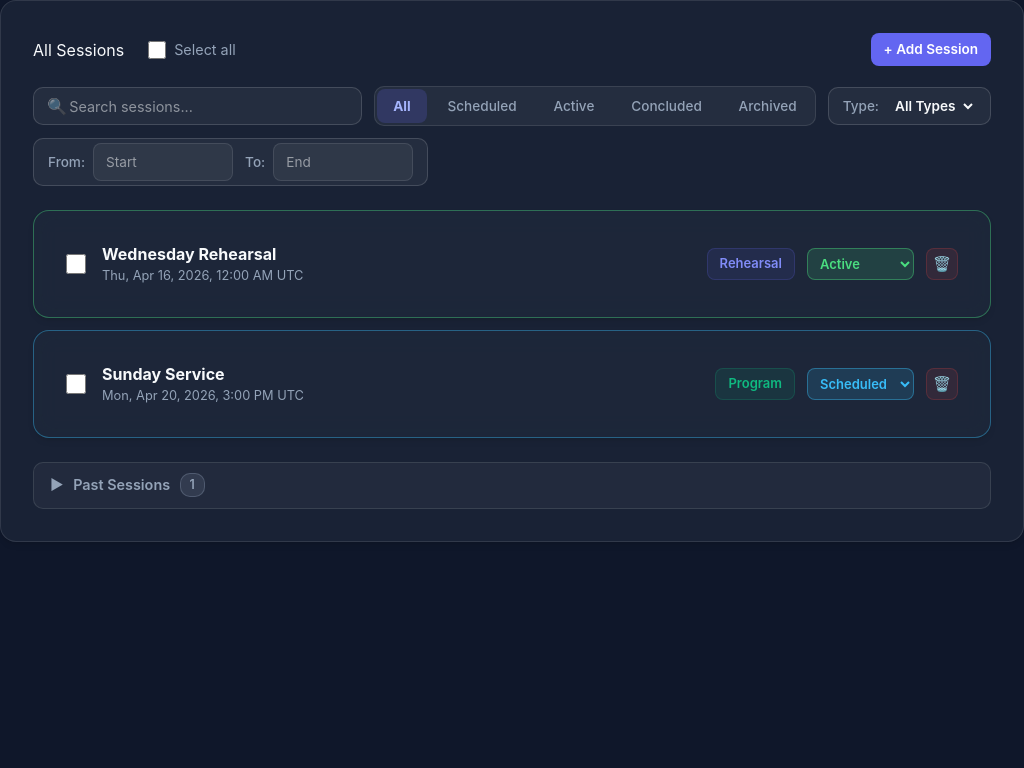
Test case: Sessions Page Tests › opens view modal when a session row is clicked
Click the text "Sunday Service" at (163, 374), box x1=102 y1=364 x2=225 y2=384
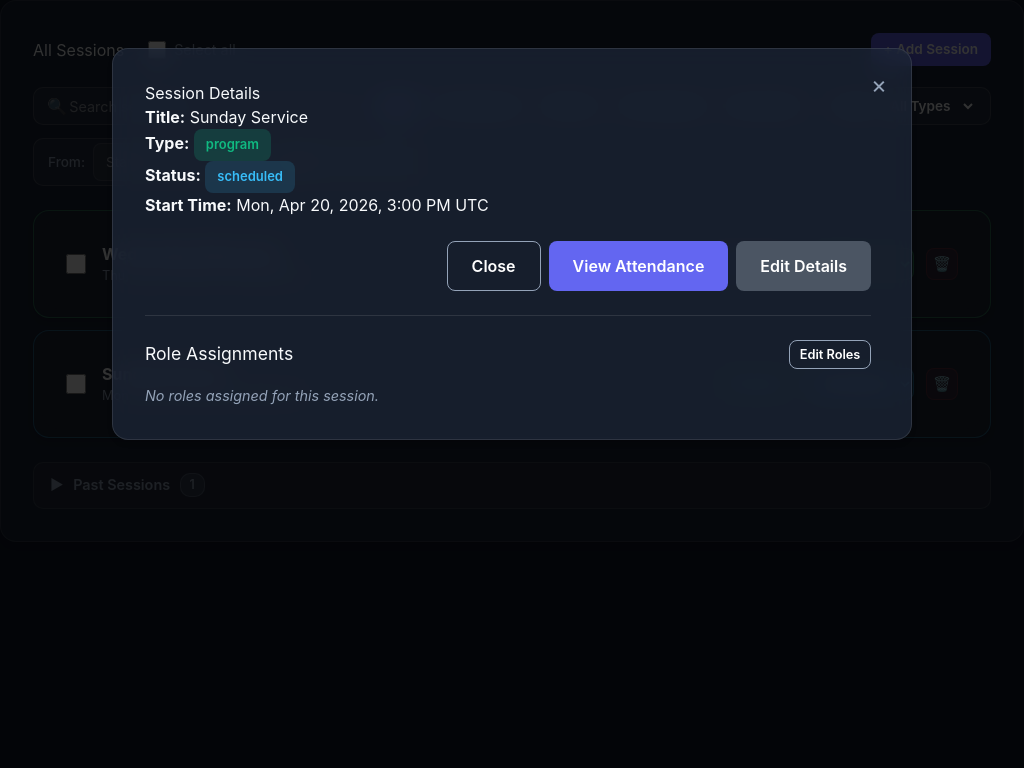
Now the heading "Session Details" is shown, box x1=145 y1=83 x2=260 y2=103
Now the button "View Attendance" is shown, box x1=549 y1=241 x2=728 y2=291
Now the button "Close" is shown, box x1=447 y1=241 x2=541 y2=291
